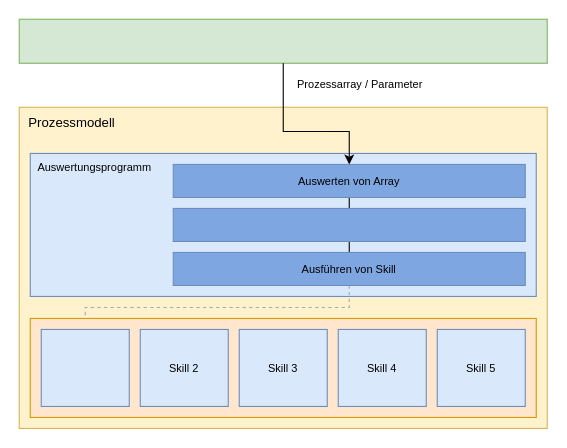
The diagram is 567 pixels wide and 448 high, and some of its shapes have lost their labels. The shapes that lost their labels are listed below. From the top down, each one's centre as x and y in pixels, then its label:
(x=282, y=40): HMI
(x=348, y=224): Vorbereiten der Daten
(x=84, y=367): Skill 1
